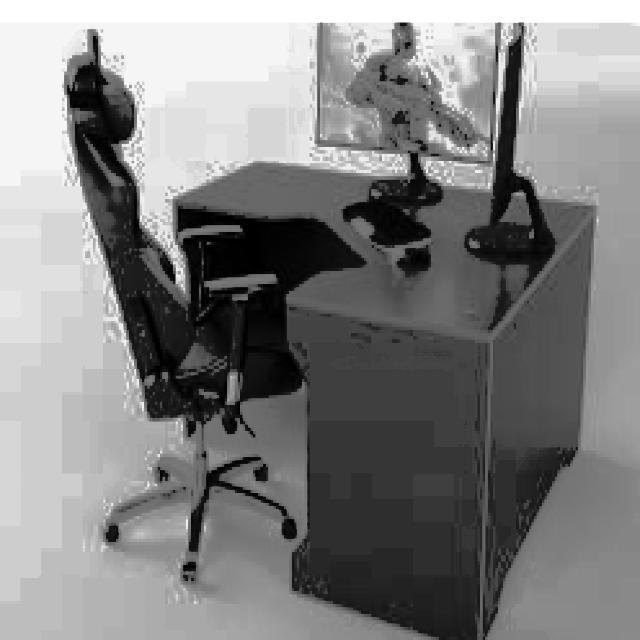book: (62, 26, 299, 585)
table: (170, 160, 596, 637)
